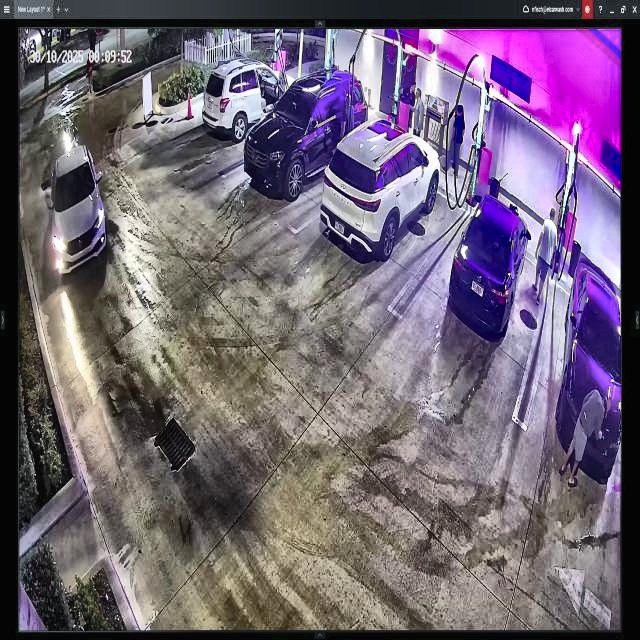Car: (320, 119, 440, 258), (243, 68, 368, 196), (445, 196, 530, 336), (202, 63, 298, 142)
